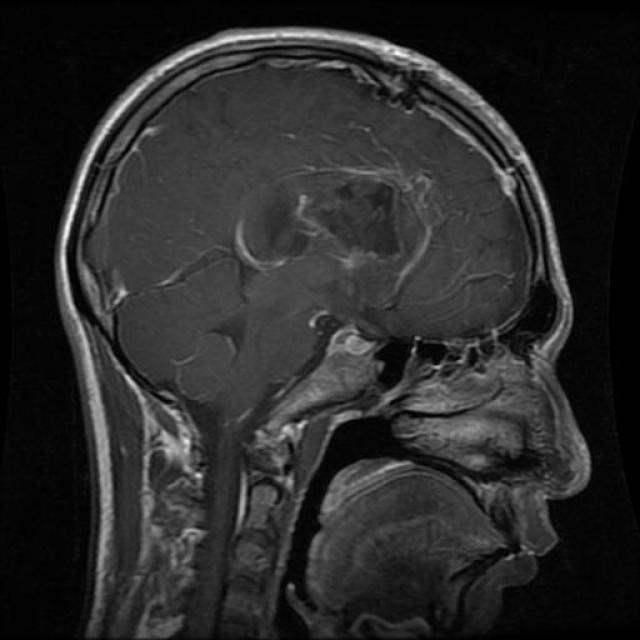glioma: (233, 164, 427, 274)
